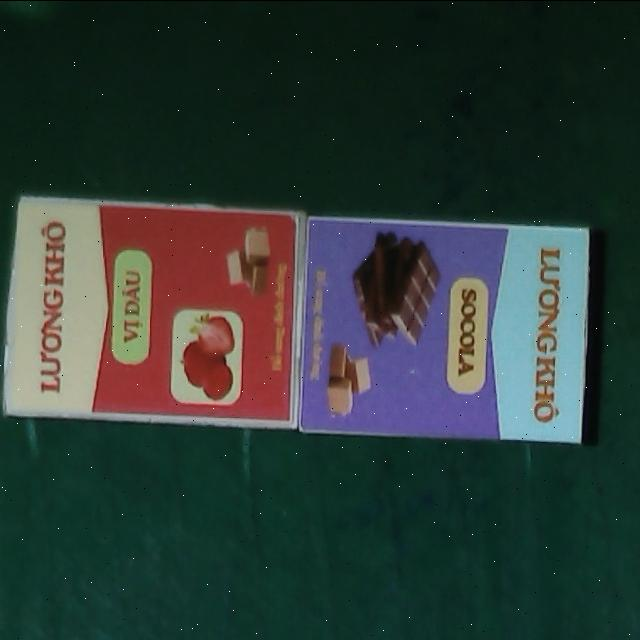dau: (1, 195, 304, 429)
socola: (297, 211, 594, 445)
